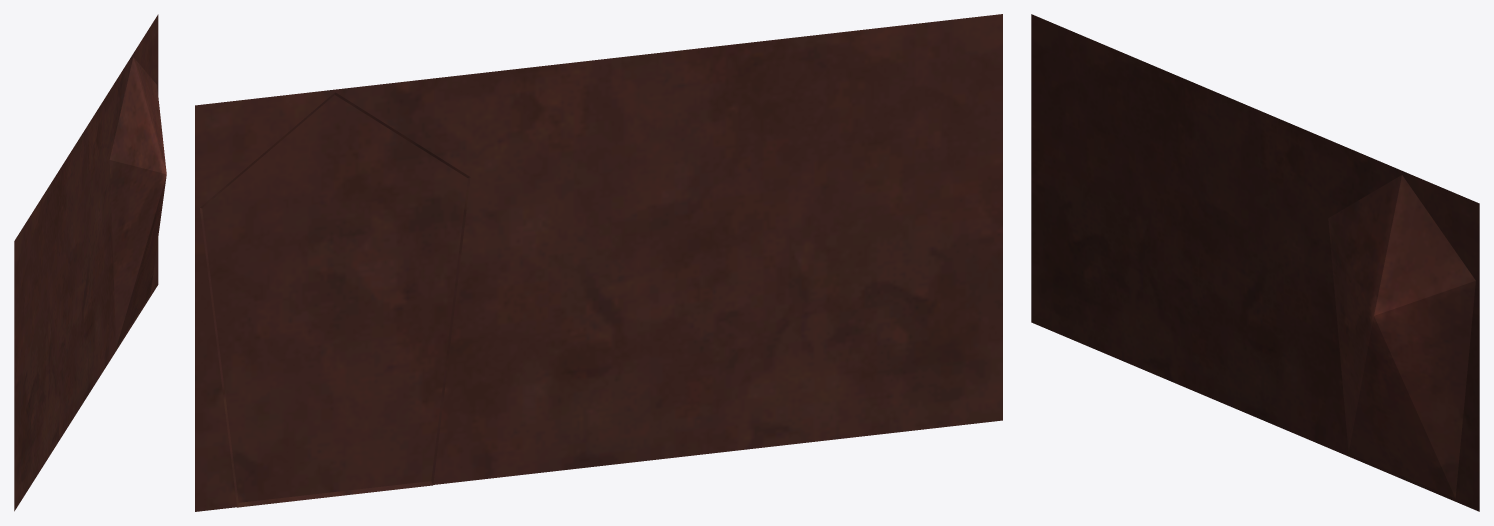
The model's file is lava_half_diagonal_01.fbx.
3 renders of one model, left to right at view 1: azimuth 30°, elevation 25°; view 2: azimuth 150°, elevation 25°; view 3: azimuth 270°, elevation 25°, orthographic. The views are drawn at different scales.
Parts seen in each view (by area): view 1: obj1.029; view 2: obj1.029; view 3: obj1.029.
Part boxes in pixels (box(x1,y1,x2,y2)): obj1.029: box(14, 14, 166, 511); obj1.029: box(195, 14, 1002, 511); obj1.029: box(1031, 14, 1479, 511).
Size of the model in its own units: 3.63 by 2.75 by 3.62.
